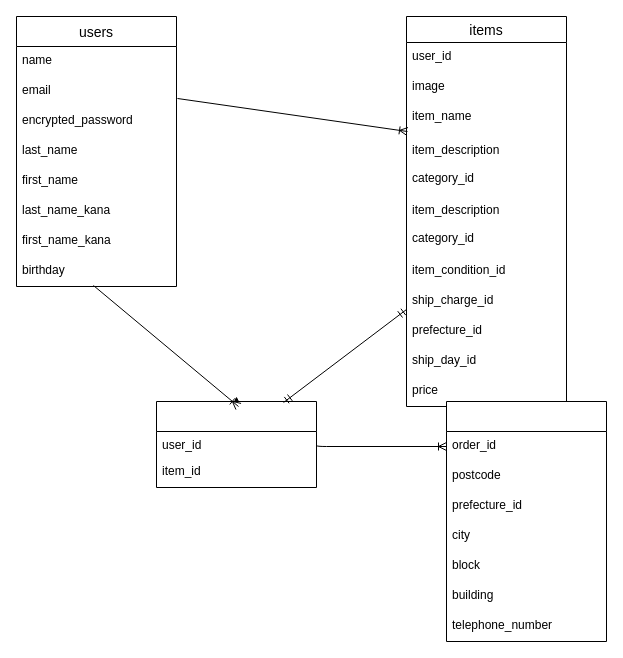
This 623x658 diagram has some shape labels left out. Each missing label, with the box of its shape:
orders: (156, 400, 316, 488)
ship_addresses: (446, 400, 606, 642)
